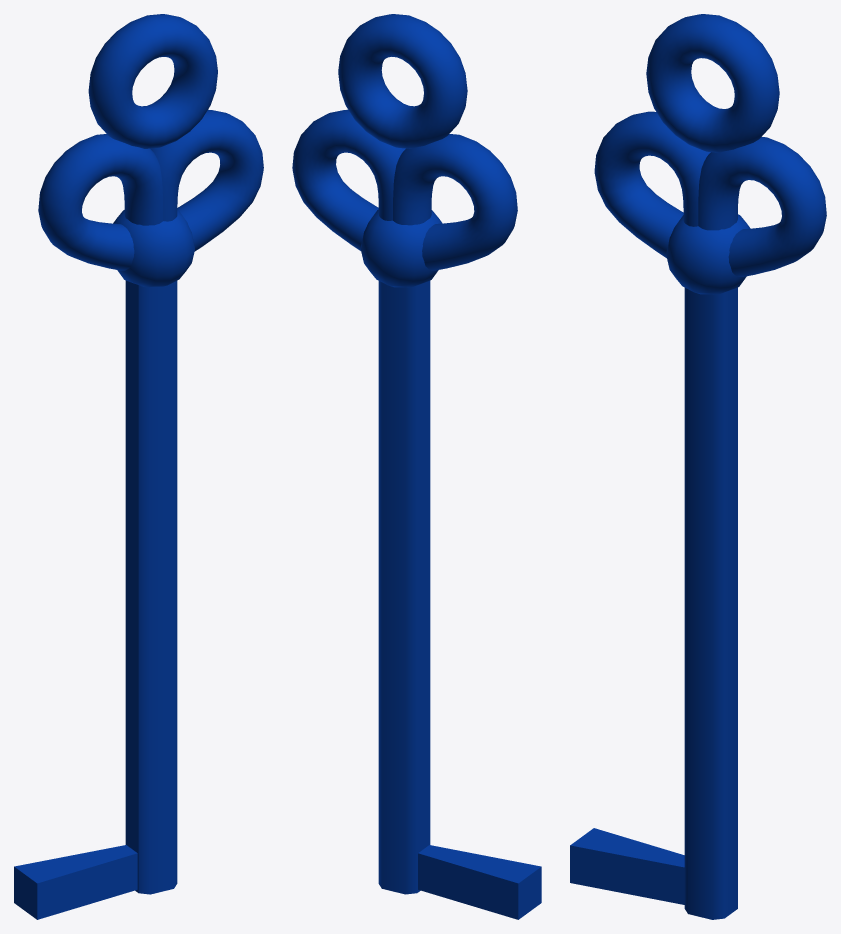
The model's file is VerticalKey.fbx.
3 renders of one model, left to right at view 1: azimuth 30°, elevation 25°; view 2: azimuth 150°, elevation 25°; view 3: azimuth 330°, elevation 25°, orthographic. The views are drawn at different scales.
Visible parts, largest first — view 1: key; view 2: key; view 3: key.
Part boxes in pixels (bbox=[...]): key: bbox=[14, 14, 263, 919]; key: bbox=[292, 14, 541, 919]; key: bbox=[570, 14, 826, 919].
Bounding box in the file's own units: 5.45 × 19.25 × 1.81.
